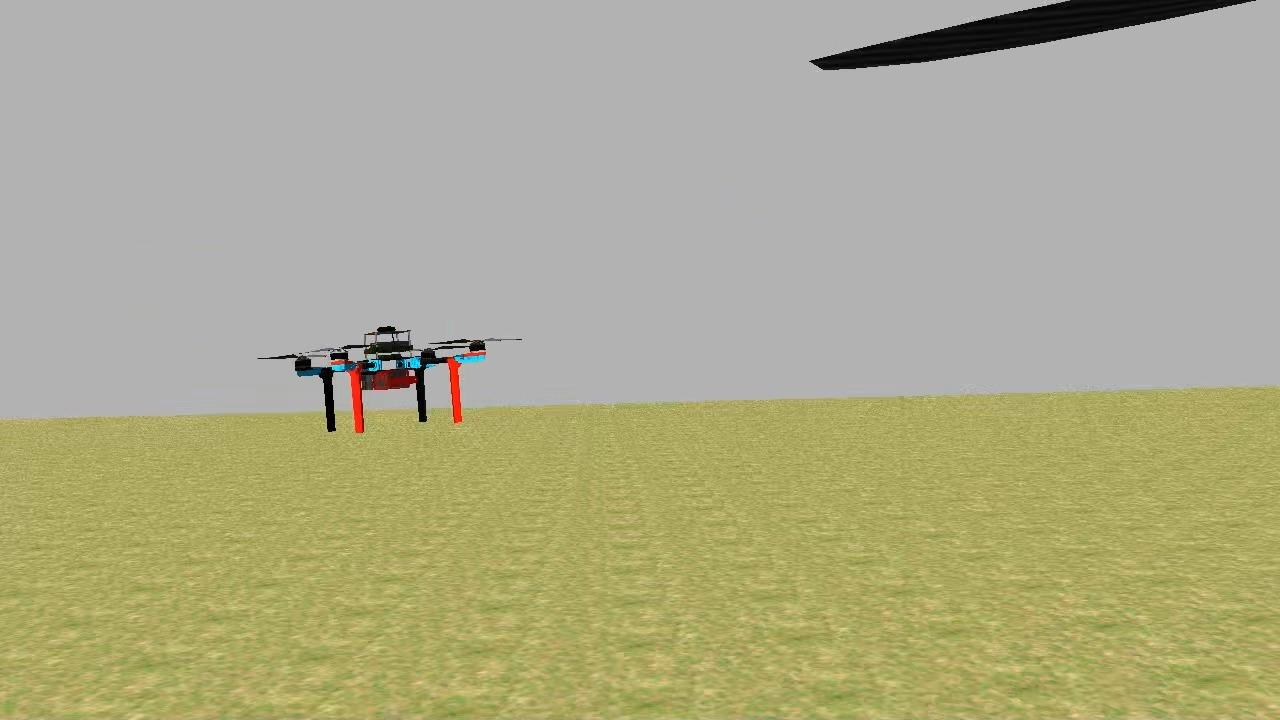UAV: (286, 316, 492, 440)
